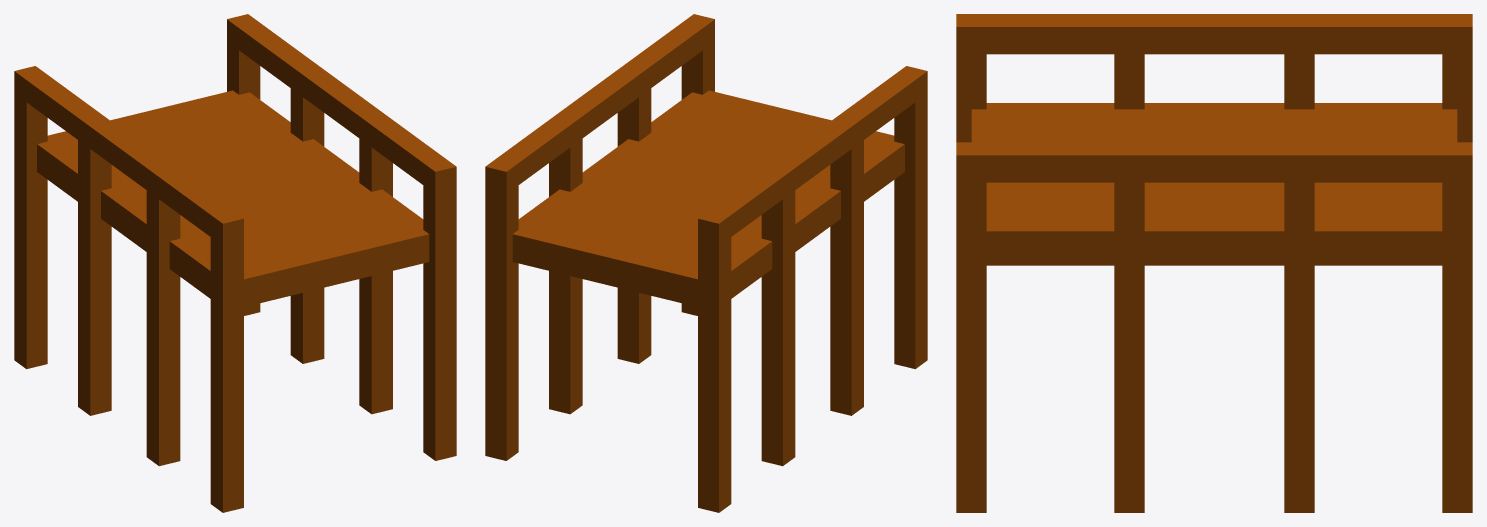
File: WoodenBridge.fbx
The picture shows the model from 3 angles, left to right: view 1: azimuth 30°, elevation 25°; view 2: azimuth 150°, elevation 25°; view 3: azimuth 270°, elevation 25°; orthographic projection. The views are drawn at different scales.
Parts seen in each view (by area): view 1: BridgeSimple; view 2: BridgeSimple; view 3: BridgeSimple.
Boxes of the visible parts, box(x1,y1,x2,y2) form: BridgeSimple: box(14, 14, 456, 512); BridgeSimple: box(485, 14, 927, 512); BridgeSimple: box(956, 14, 1472, 512).
Bounding box in the file's own units: 340 × 220 × 260.
